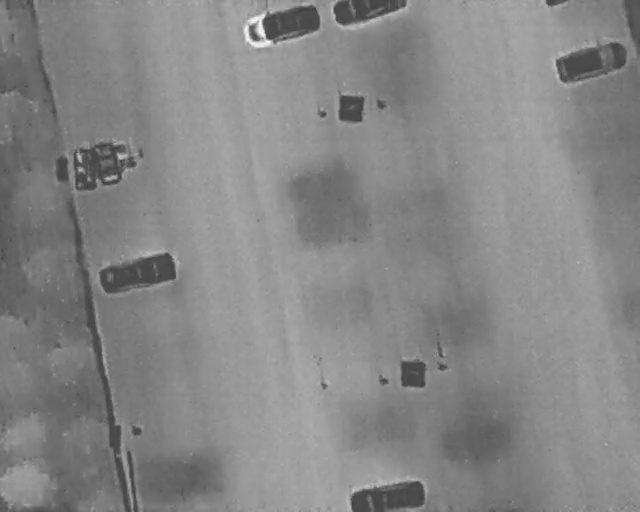Car: (95, 247, 180, 297), (551, 33, 630, 86), (239, 0, 322, 49), (349, 477, 427, 512), (333, 0, 408, 27)
